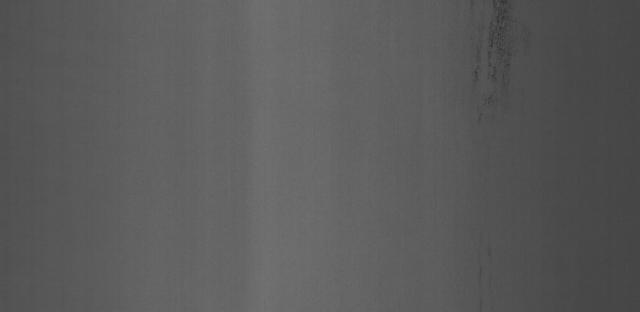inclusion: (450, 0, 531, 121)
